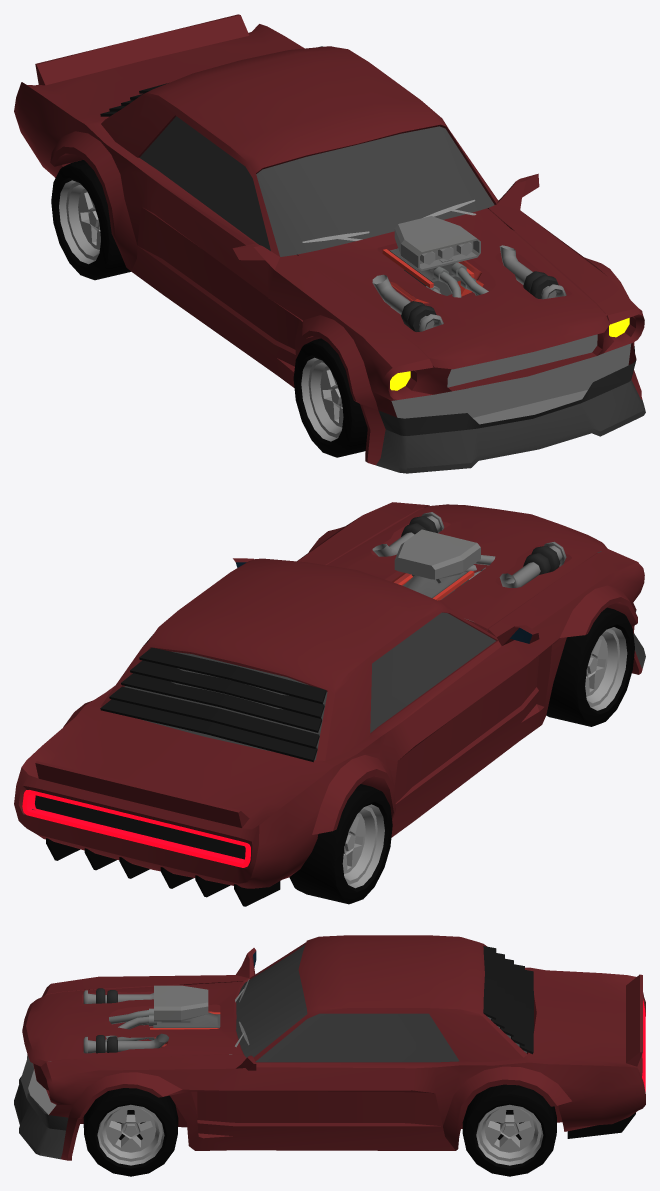
Rendered from Vector.glb.
3 views of the same model, one above another, from view 1: azimuth 30°, elevation 25°; view 2: azimuth 150°, elevation 25°; view 3: azimuth 270°, elevation 25° (orthographic). The views are drawn at different scales.
Visible parts, largest first — view 1: Body.005, WheelFronRight.002, WheelBackRright.002, Motor.001, Turbos.001; view 2: Body.005, WheelBackRright.002, WheelFronRight.002, HeadlightBack.002, Motor.001, Turbos.001; view 3: Body.005, WheelBackLeft.002, WheelFrontLeft.002, Motor.001, Turbos.001.
Part boxes in pixels (<box>): Body.005: <box>14,14,645,473</box>; WheelFronRight.002: <box>293,338,367,457</box>; WheelBackRright.002: <box>51,160,130,280</box>; Motor.001: <box>382,216,488,303</box>; Turbos.001: <box>372,245,566,331</box>; Body.005: <box>14,502,645,906</box>; WheelBackRright.002: <box>289,784,392,904</box>; WheelFronRight.002: <box>546,607,634,726</box>; HeadlightBack.002: <box>22,790,250,867</box>; Motor.001: <box>392,529,495,600</box>; Turbos.001: <box>372,512,566,587</box>; Body.005: <box>14,935,645,1160</box>; WheelBackLeft.002: <box>462,1084,556,1176</box>; WheelFrontLeft.002: <box>83,1088,178,1176</box>; Motor.001: <box>105,985,220,1047</box>; Turbos.001: <box>83,988,168,1053</box>.
Bounding box in the file's own units: 2.92 × 1.88 × 6.67.
5 materials, 1 textured.
